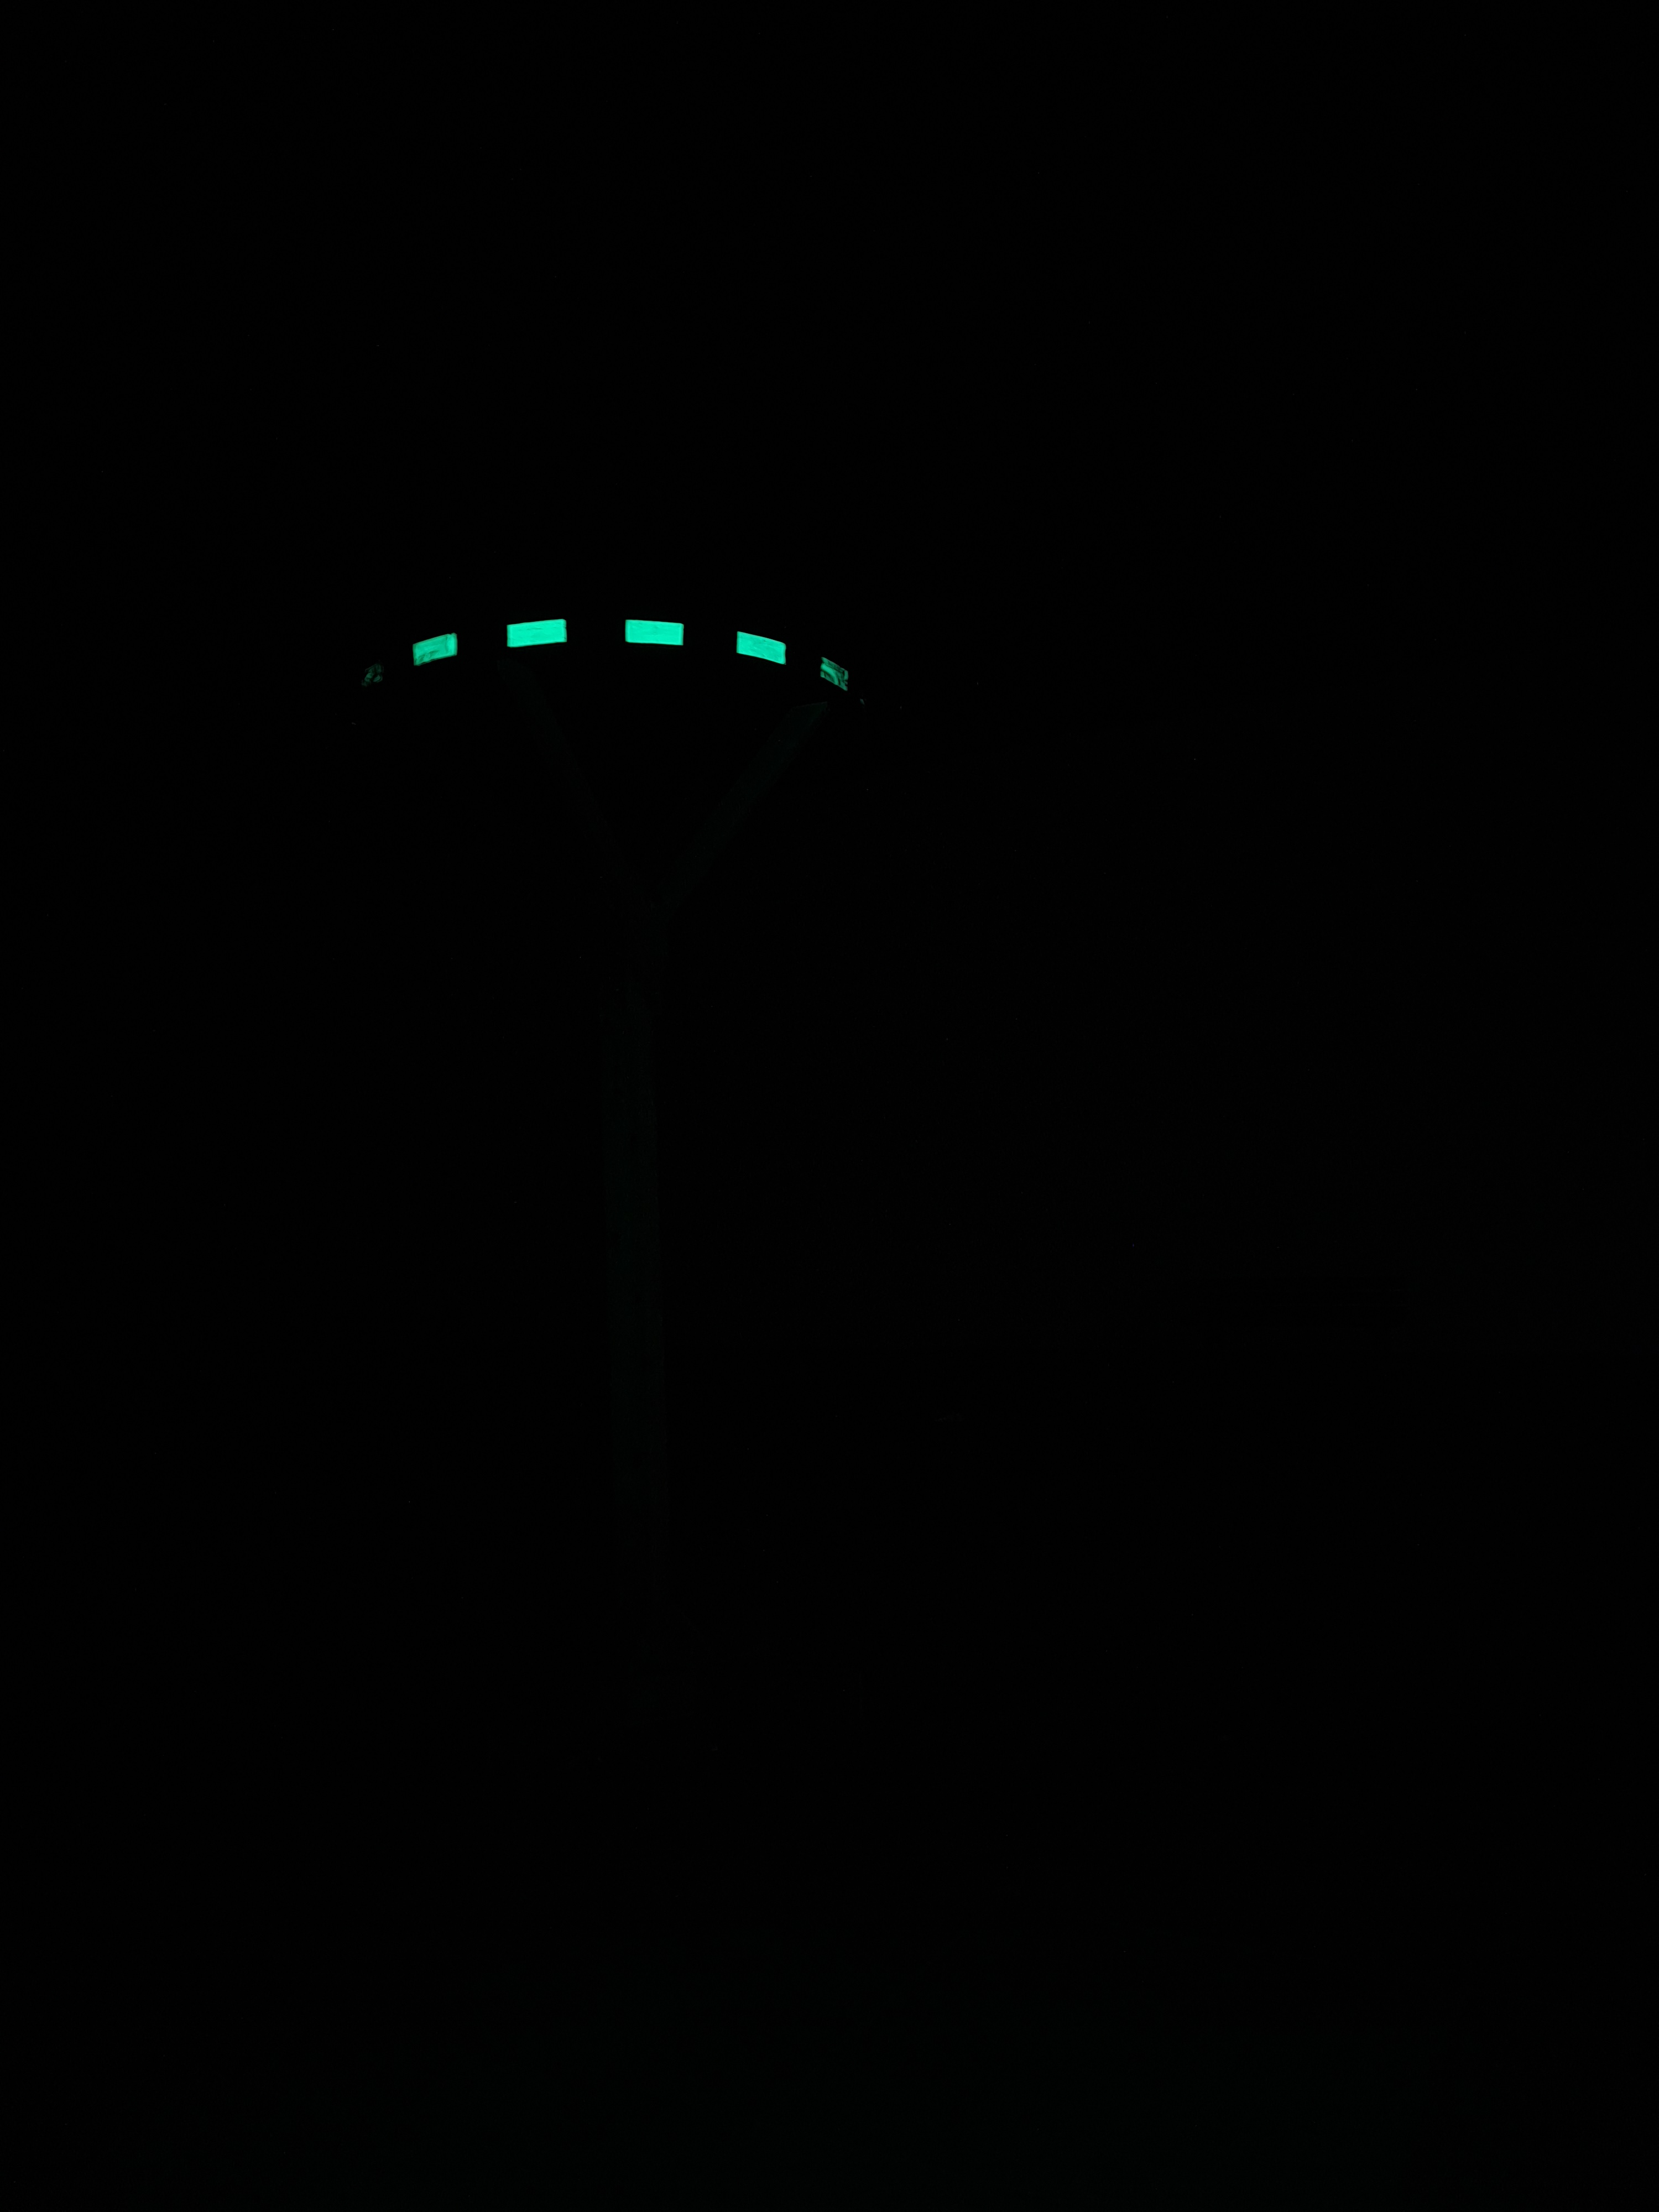hoop: (326, 573, 866, 765)
